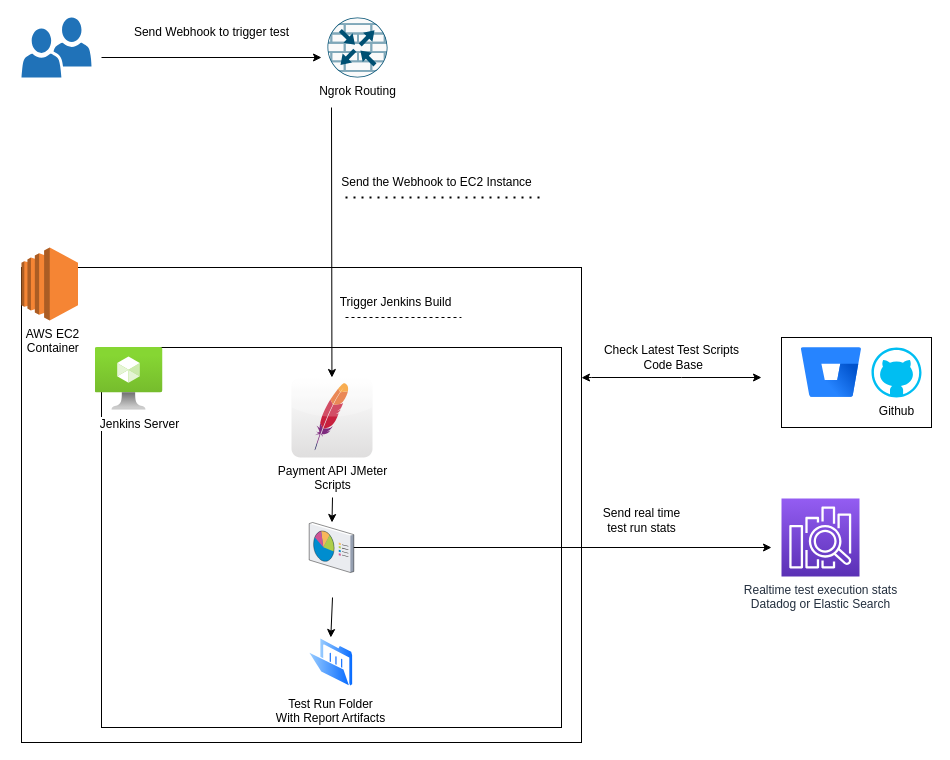
Image size: 950x760. Some labels were removed from this diagram. Each missing label, with the centre of its shape:
Bitbucket: the point at 831,372
MS Teams Bot: the point at 56,47
Test Run Report: the point at 331,547
